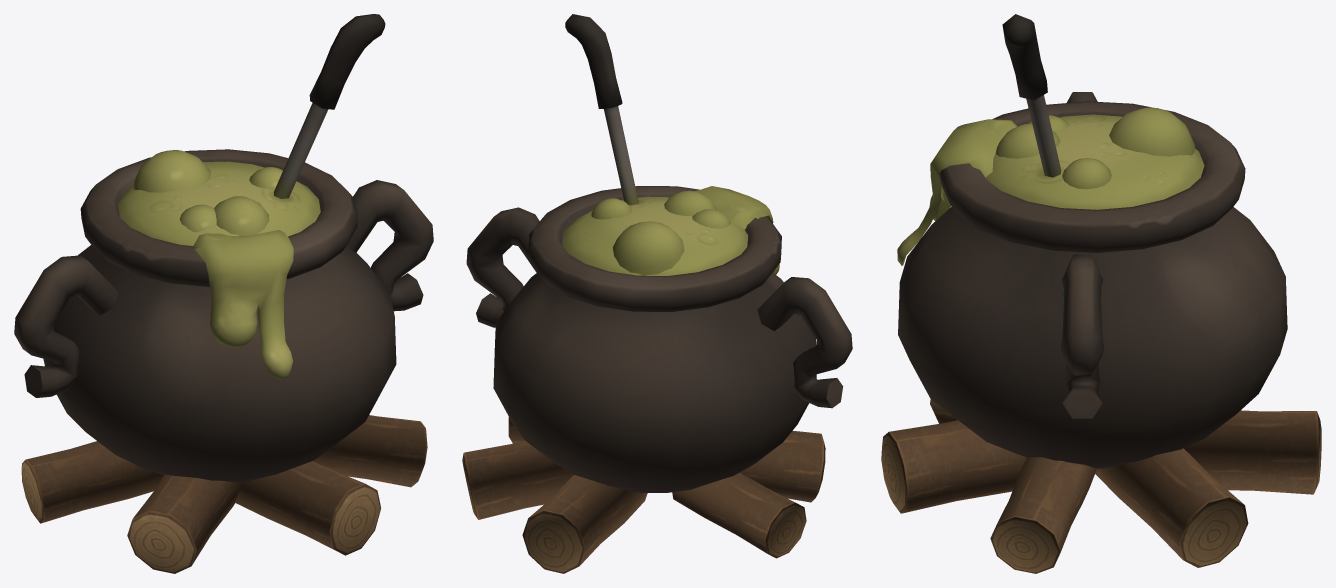
Rendered from Witchpot.fbx.
3 renders of one model, left to right at view 1: azimuth 30°, elevation 25°; view 2: azimuth 150°, elevation 25°; view 3: azimuth 270°, elevation 25°, orthographic. The views are drawn at different scales.
Parts seen in each view (by area): view 1: Wtchpot; view 2: Wtchpot; view 3: Wtchpot.
Boxes of the visible parts, x1,y1,x2,y2 form: Wtchpot: [14, 14, 433, 573]; Wtchpot: [462, 14, 852, 573]; Wtchpot: [881, 14, 1321, 573].
Size of the model in its own units: 116 by 131 by 98.14.
